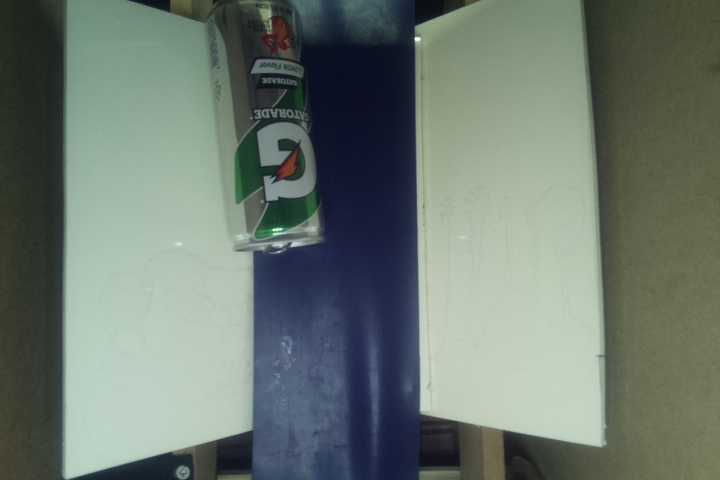can: (205, 1, 325, 257)
